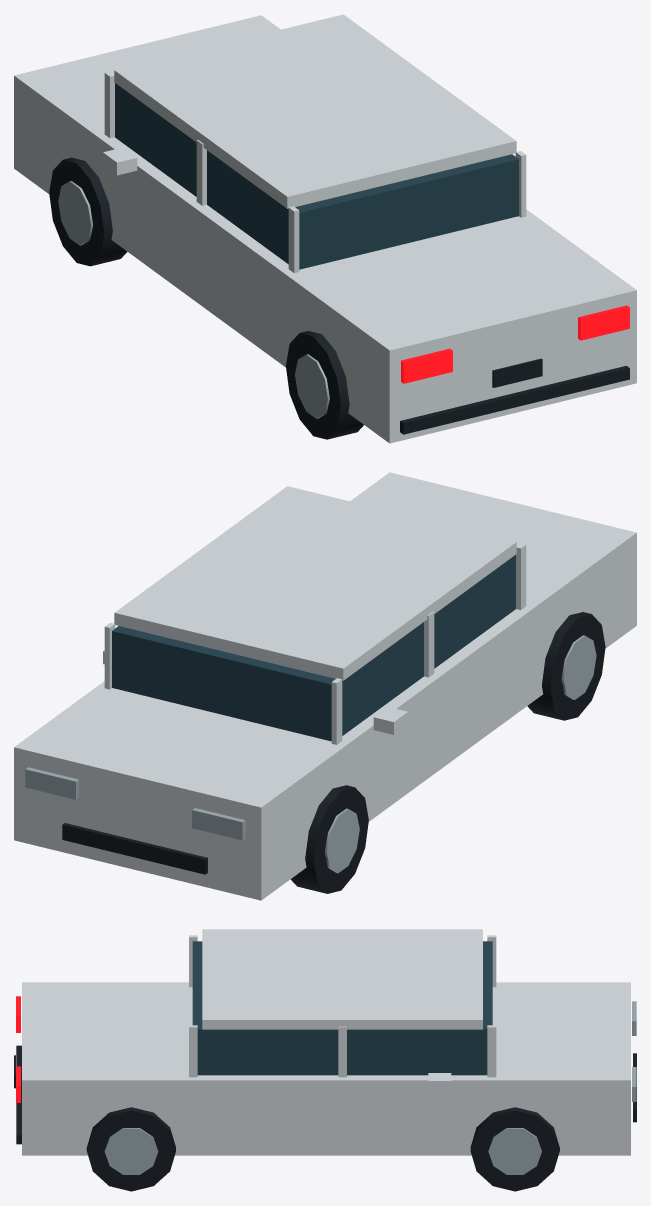
Rendered from traffic-sedan.glb.
3 views of the same model, one above another, from view 1: azimuth 30°, elevation 25°; view 2: azimuth 150°, elevation 25°; view 3: azimuth 270°, elevation 25° (orthographic). The views are drawn at different scales.
Parts seen in each view (by area): view 1: lod_body, lod_glass, lod_dark, lod_metal, brake_lights; view 2: lod_body, lod_glass, lod_dark, lod_metal; view 3: lod_body, lod_glass, lod_dark, lod_metal.
Boxes of the visible parts, <box> form: lod_body: <box>14,14,636,443</box>; lod_glass: <box>115,83,518,269</box>; lod_dark: <box>49,157,629,439</box>; lod_metal: <box>58,181,329,418</box>; brake_lights: <box>401,305,629,383</box>; lod_body: <box>14,472,636,900</box>; lod_glass: <box>112,555,515,741</box>; lod_dark: <box>62,612,605,893</box>; lod_metal: <box>25,635,596,873</box>; lod_body: <box>22,929,630,1155</box>; lod_glass: <box>192,941,492,1075</box>; lod_dark: <box>14,1045,636,1191</box>; lod_metal: <box>104,1001,636,1174</box>.
Size of the model in its own units: 2.01 by 1.34 by 4.6.
